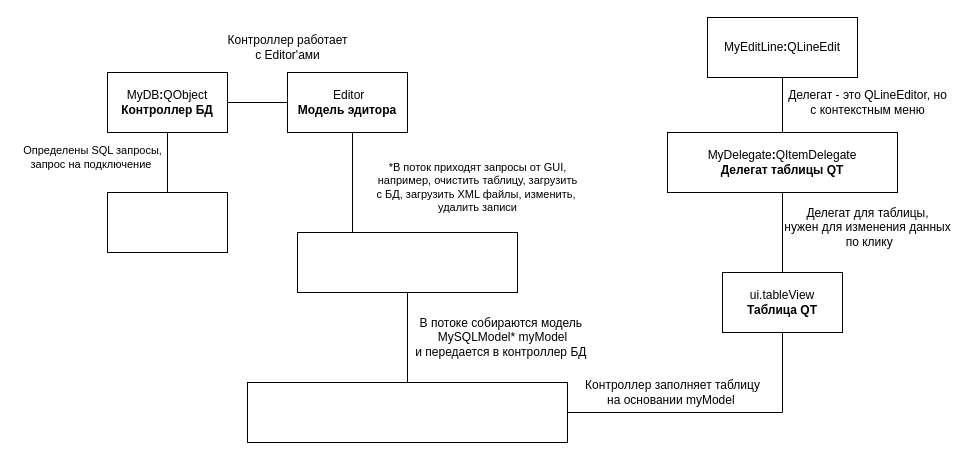
This 974x460 diagram has some shape labels left out. The shapes that lost their labels are listed below. From the top down, each one's centre as x and y in pixels, then its label:
At (167,222): "QSqlDatabase db База данных".
At (407,262): "myThread Объект передаваемый в поток".
At (407,412): "MySQLModel : QAbstractTableModel Контроллер-модель для таблицы QT".
